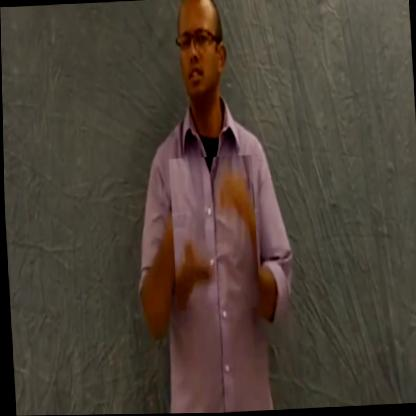ExcuseMe: (168, 156, 259, 312)
